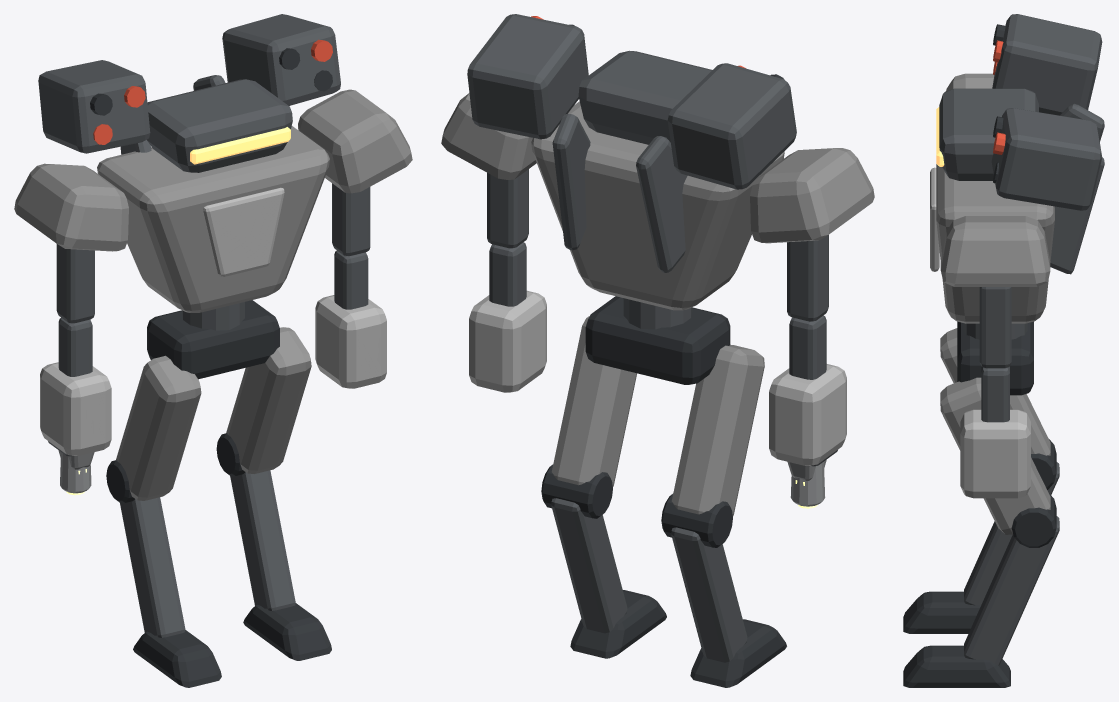
Rendered from guarda.glb.
The picture shows the model from 3 angles, left to right: view 1: azimuth 30°, elevation 25°; view 2: azimuth 150°, elevation 25°; view 3: azimuth 270°, elevation 25°; orthographic projection. The views are drawn at different scales.
Parts seen in each view (by area): view 1: p_21, p_23, p_10, p_14, arma_misseis_35, p_1, p_5, arma_misseis_30, p_19, p_12, p_3, p_8 (+13 smaller); view 2: p_21, arma_misseis_35, arma_misseis_30, p_10, p_14, p_19, p_23, p_1, p_8, p_17, p_3, p_12 (+13 smaller); view 3: arma_misseis_30, arma_misseis_35, p_5, p_21, p_23, p_8, p_3, p_4, p_1, p_13, p_6, p_19 (+10 smaller).
Boxes of the visible parts, x1,y1,x2,y2 form: p_21: [97, 126, 329, 312]; p_23: [147, 79, 292, 172]; p_10: [116, 355, 201, 500]; p_14: [14, 163, 128, 251]; arma_misseis_35: [38, 60, 150, 153]; p_1: [226, 327, 311, 473]; p_5: [298, 89, 412, 193]; arma_misseis_30: [222, 14, 340, 105]; p_19: [147, 300, 279, 379]; p_12: [120, 497, 185, 637]; p_3: [230, 470, 295, 610]; p_8: [315, 295, 386, 388]; p_21: [531, 101, 784, 310]; arma_misseis_35: [667, 63, 796, 189]; arma_misseis_30: [467, 14, 588, 139]; p_10: [671, 344, 764, 515]; p_14: [750, 148, 874, 243]; p_19: [585, 296, 730, 384]; p_23: [578, 50, 712, 144]; p_1: [551, 316, 636, 486]; p_8: [469, 290, 546, 392]; p_17: [769, 364, 846, 465]; p_3: [551, 498, 627, 633]; p_12: [671, 527, 747, 662]; arma_misseis_30: [991, 108, 1102, 210]; arma_misseis_35: [992, 14, 1102, 115]; p_5: [940, 216, 1050, 286]; p_21: [936, 164, 1054, 323]; p_23: [939, 88, 1038, 180]; p_8: [960, 409, 1030, 498]; p_3: [964, 516, 1059, 665]; p_4: [903, 645, 1010, 687]; p_1: [940, 377, 1050, 534]; p_13: [903, 591, 980, 633]; p_6: [979, 287, 1011, 368]; p_19: [957, 321, 1033, 395].
Size of the model in its own units: 1.28 by 1.99 by 0.6286.
